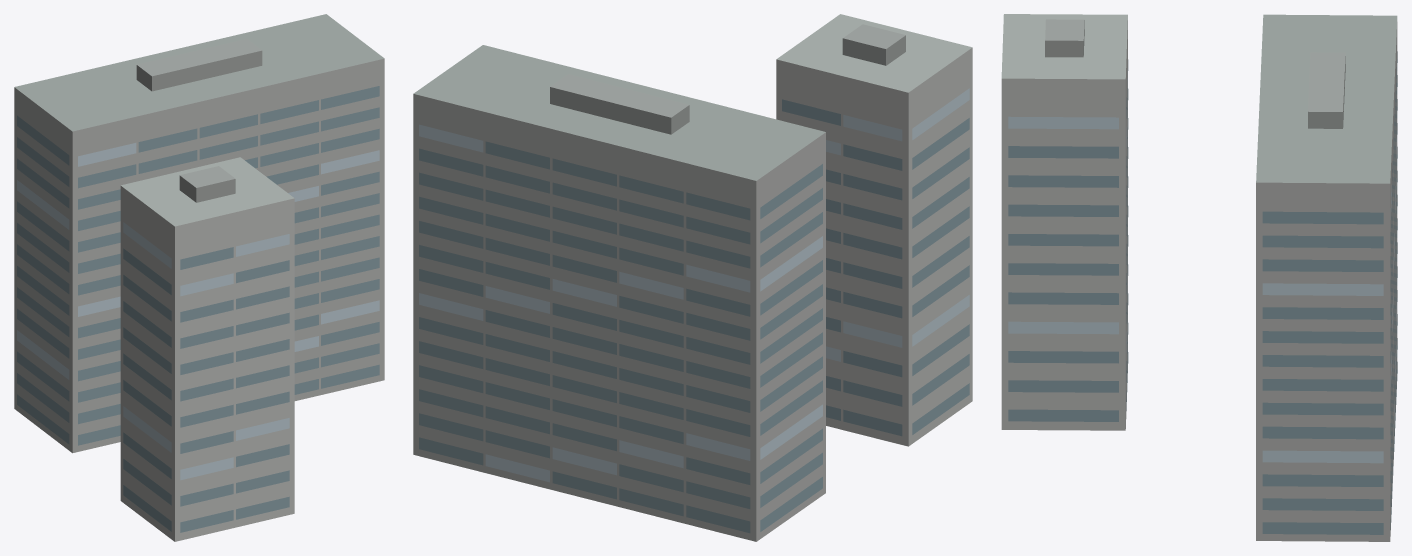
The model's file is apt-a10023834.glb.
3 views of the same model, side by side, from view 1: azimuth 30°, elevation 25°; view 2: azimuth 150°, elevation 25°; view 3: azimuth 270°, elevation 25° (orthographic). The views are drawn at different scales.
Parts seen in each view (by area): view 1: apt-a10023834; view 2: apt-a10023834; view 3: apt-a10023834.
Boxes of the visible parts, left/top/right/bottom form: apt-a10023834: left=14, top=14, right=384, bottom=541; apt-a10023834: left=413, top=14, right=972, bottom=541; apt-a10023834: left=1001, top=14, right=1397, bottom=541.
Size of the model in its own units: 51.56 by 51 by 48.82.
